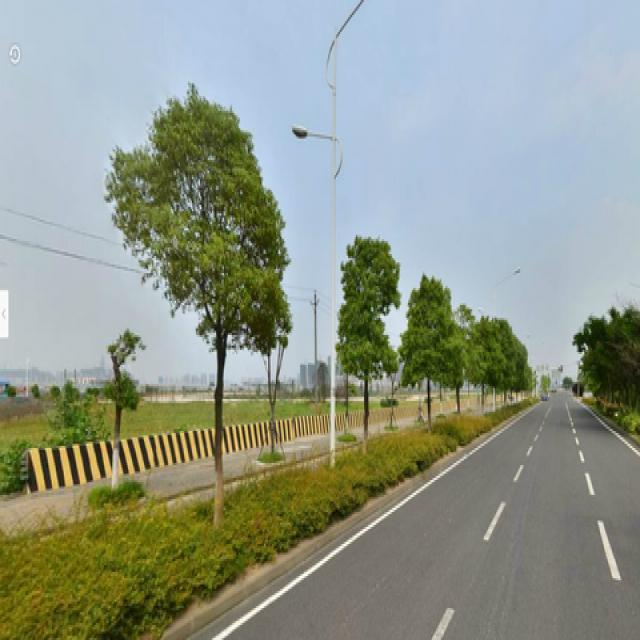cinn: (155, 92, 273, 518), (344, 235, 387, 454), (409, 284, 443, 429)
